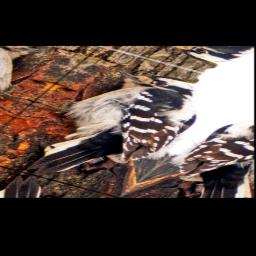Woodpecker: (0, 54, 242, 197)
